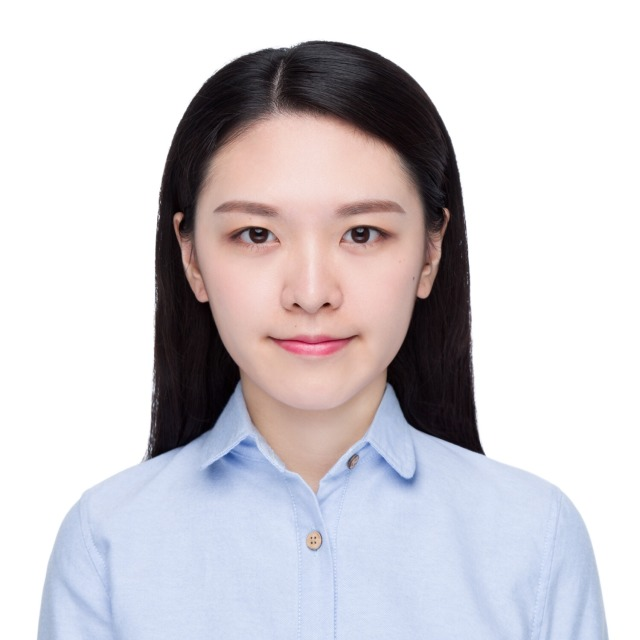unmask: (191, 141, 422, 400)
